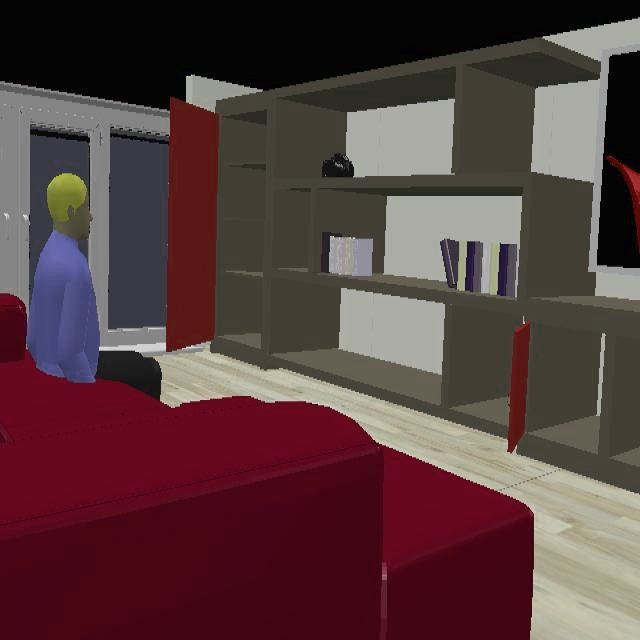book: (441, 240, 519, 297), (321, 233, 373, 277)
bookshelf: (166, 39, 640, 496)
monitor: (599, 51, 640, 267)
person: (27, 173, 162, 400)
sofa: (0, 293, 534, 640)
